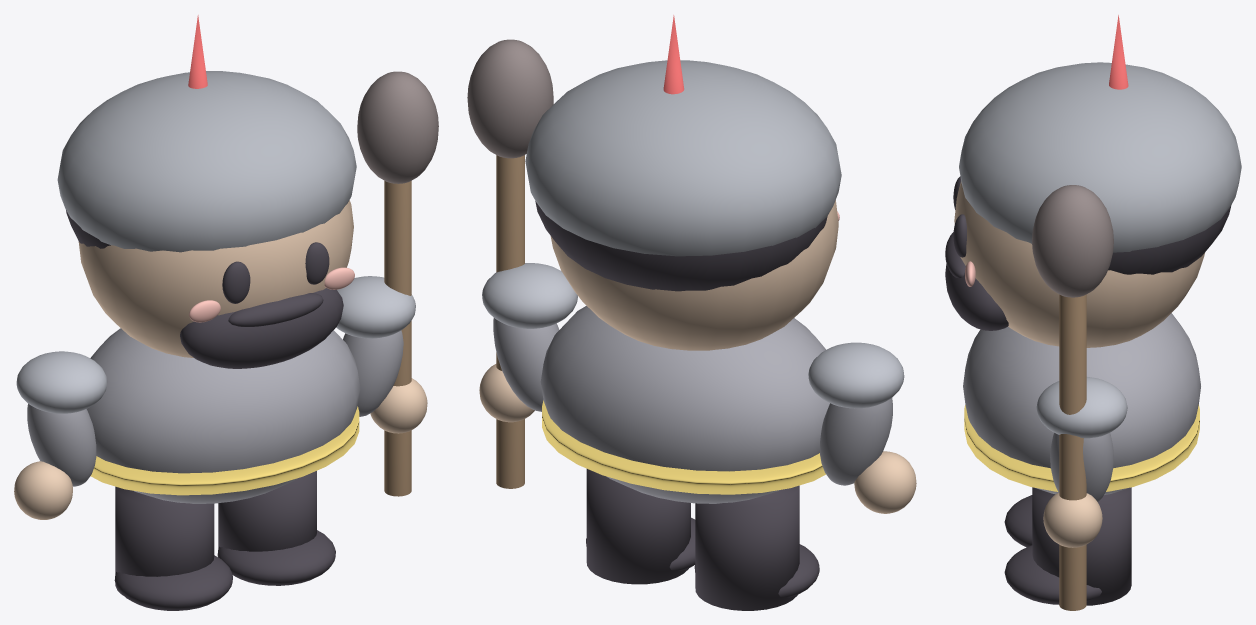
File: yt_ironbrute.fbx
3 renders of one model, left to right at view 1: azimuth 30°, elevation 25°; view 2: azimuth 150°, elevation 25°; view 3: azimuth 270°, elevation 25°, orthographic. The views are drawn at different scales.
Visible parts, largest first — view 1: helmet, body, head_mesh, leg, wp_head, beard, belt, leg.001, wp_shaft, pauldron.001, arm_mesh.001, shoe (+9 smaller); view 2: helmet, body, head_mesh, leg, leg.001, hair, wp_head, belt, wp_shaft, pauldron.001, pauldron, arm_mesh.001 (+6 smaller); view 3: helmet, body, head_mesh, wp_head, wp_shaft, leg.001, belt, pauldron, hair, hand_mesh, shoe.001, beard (+5 smaller).
Part boxes in pixels (x1=…): helmet: x1=57, y1=71, x2=356, y2=252; body: x1=87, y1=328, x2=360, y2=503; head_mesh: x1=78, y1=200, x2=353, y2=357; leg: x1=115, y1=486, x2=214, y2=595; wp_head: x1=357, y1=71, x2=438, y2=183; beard: x1=180, y1=288, x2=343, y2=368; belt: x1=90, y1=406, x2=359, y2=495; leg.001: x1=218, y1=471, x2=316, y2=551; wp_shaft: x1=384, y1=180, x2=411, y2=496; pauldron.001: x1=16, y1=351, x2=107, y2=413; arm_mesh.001: x1=27, y1=403, x2=96, y2=486; shoe: x1=114, y1=555, x2=232, y2=610; helmet: x1=525, y1=60, x2=841, y2=256; body: x1=540, y1=306, x2=829, y2=503; head_mesh: x1=550, y1=200, x2=838, y2=350; leg: x1=695, y1=485, x2=799, y2=610; leg.001: x1=586, y1=469, x2=690, y2=584; hair: x1=535, y1=201, x2=827, y2=291; wp_head: x1=467, y1=39, x2=553, y2=158; belt: x1=542, y1=400, x2=825, y2=494; wp_shaft: x1=496, y1=155, x2=524, y2=488; pauldron.001: x1=808, y1=342, x2=904, y2=408; pauldron: x1=482, y1=263, x2=577, y2=328; arm_mesh.001: x1=820, y1=398, x2=892, y2=485; helmet: x1=959, y1=62, x2=1241, y2=252; body: x1=963, y1=313, x2=1200, y2=494; head_mesh: x1=954, y1=181, x2=1204, y2=347; wp_head: x1=1032, y1=185, x2=1113, y2=297; wp_shaft: x1=1059, y1=294, x2=1086, y2=610; leg.001: x1=1032, y1=487, x2=1131, y2=605; belt: x1=964, y1=404, x2=1199, y2=491; pauldron: x1=1036, y1=377, x2=1127, y2=438; hair: x1=1108, y1=206, x2=1230, y2=274; hand_mesh: x1=1043, y1=492, x2=1102, y2=547; shoe.001: x1=1004, y1=545, x2=1101, y2=604; beard: x1=945, y1=263, x2=1008, y2=330.
Bounding box in the file's own units: 1.05 × 1.34 × 0.65.
